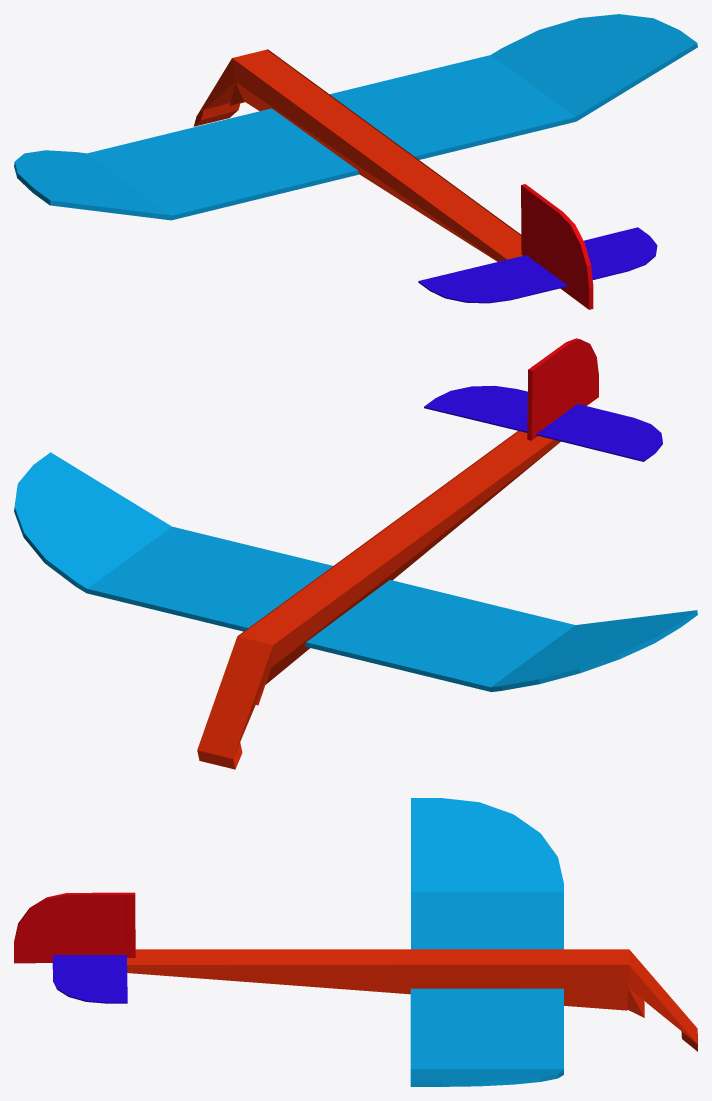
The model's file is PlaneGrinder.fbx.
3 renders of one model, top to bottom at view 1: azimuth 30°, elevation 25°; view 2: azimuth 150°, elevation 25°; view 3: azimuth 270°, elevation 25°, orthographic. The views are drawn at different scales.
Visible parts, largest first — view 1: Plane.005, Plane.004, Plane.003, Plane.002, Plane.001, Plane; view 2: Plane.005, Plane.004, Plane.003, Plane.002, Plane.001, Plane; view 3: Plane.003, Plane.004, Plane.005, Plane.002, Plane.
Boxes of the visible parts, box(x1,y1,x2,y2) form: Plane.005: box(330, 14, 697, 159); Plane.004: box(14, 108, 359, 220); Plane.003: box(194, 49, 522, 261); Plane.002: box(521, 184, 593, 309); Plane.001: box(418, 255, 567, 303); Plane: box(584, 227, 657, 279); Plane.005: box(14, 452, 332, 631); Plane.004: box(304, 580, 697, 691); Plane.003: box(197, 431, 560, 769); Plane.002: box(527, 338, 598, 440); Plane.001: box(536, 404, 662, 461); Plane: box(424, 385, 527, 432); Plane.003: box(127, 949, 697, 1051); Plane.004: box(411, 798, 563, 949); Plane.005: box(410, 988, 563, 1086); Plane.002: box(14, 892, 135, 963); Plane: box(52, 955, 127, 1003).
Size of the model in its own units: 3620 by 890 by 3671.
